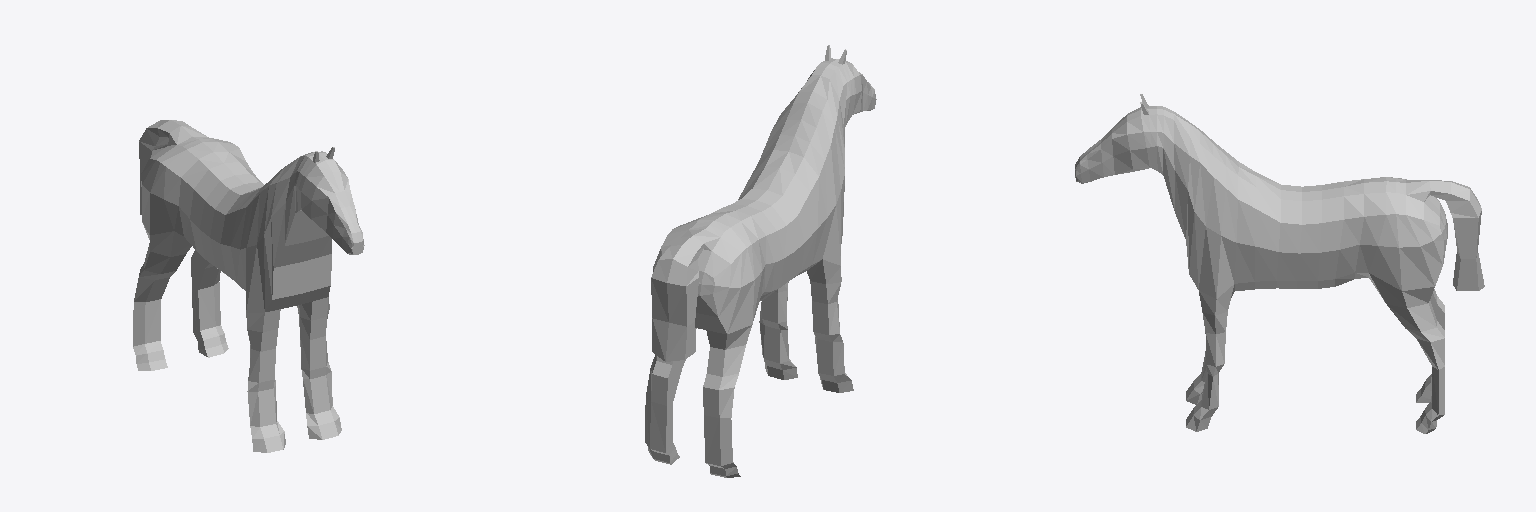
File: horse.obj
3 renders of one model, left to right at view 1: azimuth 30°, elevation 25°; view 2: azimuth 150°, elevation 25°; view 3: azimuth 270°, elevation 25°, orthographic.
Parts seen in each view (by area): view 1: Horse_Plane; view 2: Horse_Plane; view 3: Horse_Plane.
Boxes of the visible parts, x1=… form: Horse_Plane: x1=133, y1=120, x2=364, y2=452; Horse_Plane: x1=645, y1=45, x2=876, y2=477; Horse_Plane: x1=1075, y1=94, x2=1484, y2=433.
Bounding box in the file's own units: 0.7136 × 2.32 × 2.73.